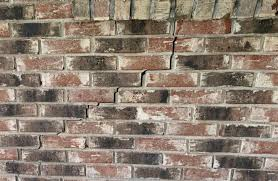stairstep_crack: (0, 0, 176, 161)
